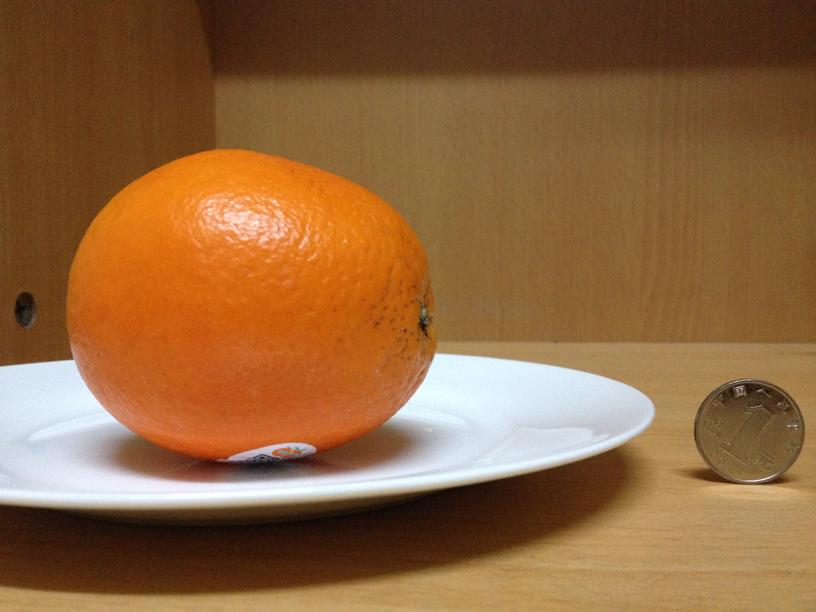coin: (695, 374, 803, 485)
orange: (66, 148, 438, 463)
